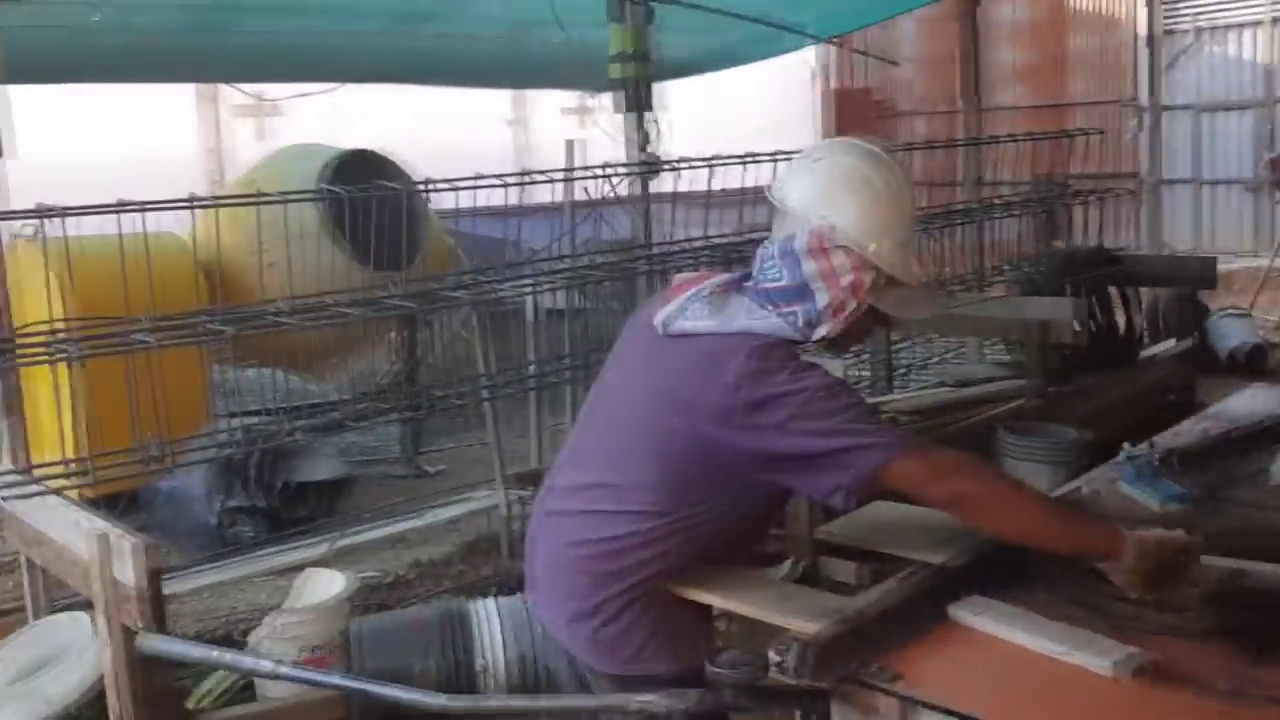helmet: (766, 149, 942, 292)
helmet-on: (723, 136, 946, 356)
person: (526, 136, 1198, 720)
